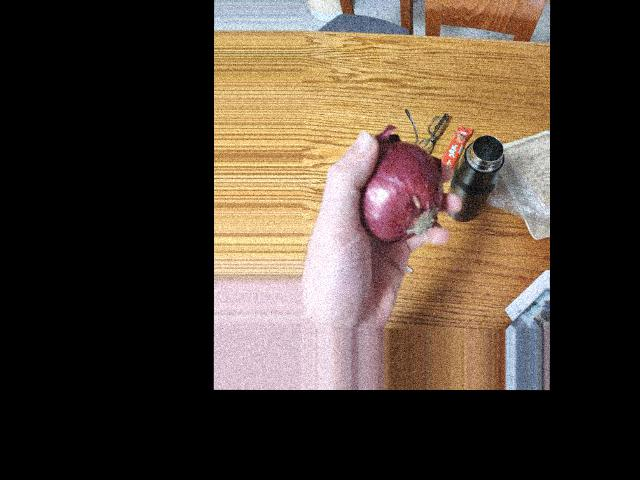onion: (348, 151, 430, 236)
